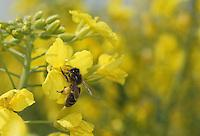pollenbee: (63, 68, 82, 107)
